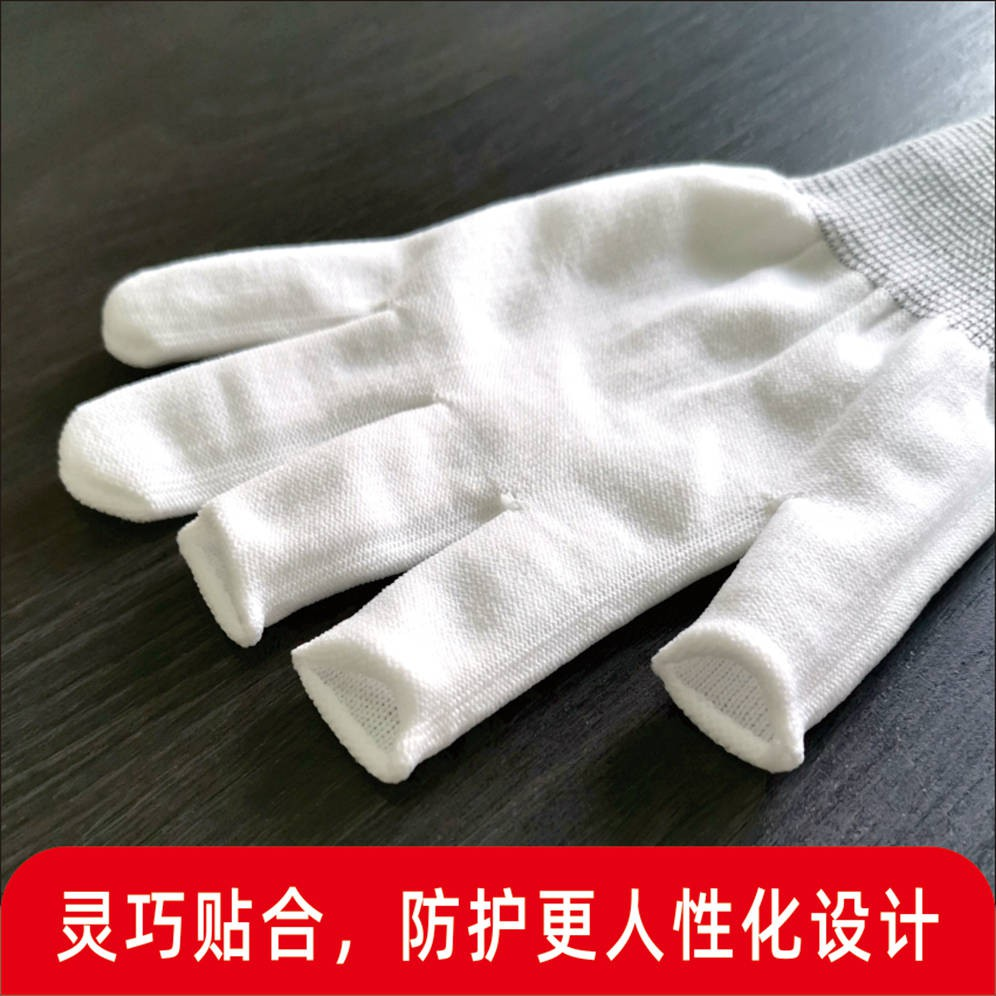defected: (33, 158, 996, 794)
